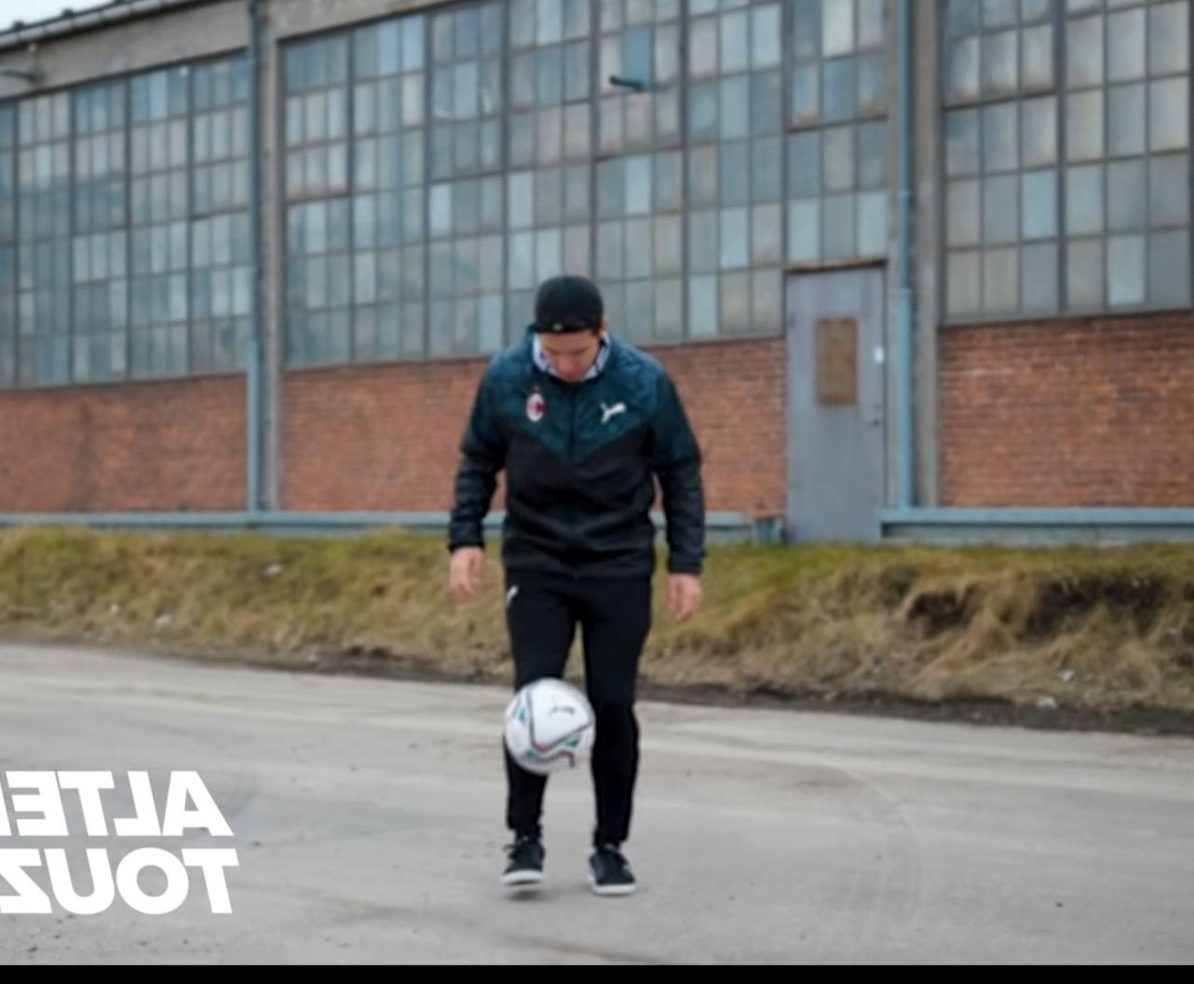ball: (503, 680, 594, 773)
foot: (588, 844, 639, 894), (502, 837, 546, 888)
person: (449, 274, 707, 900)
